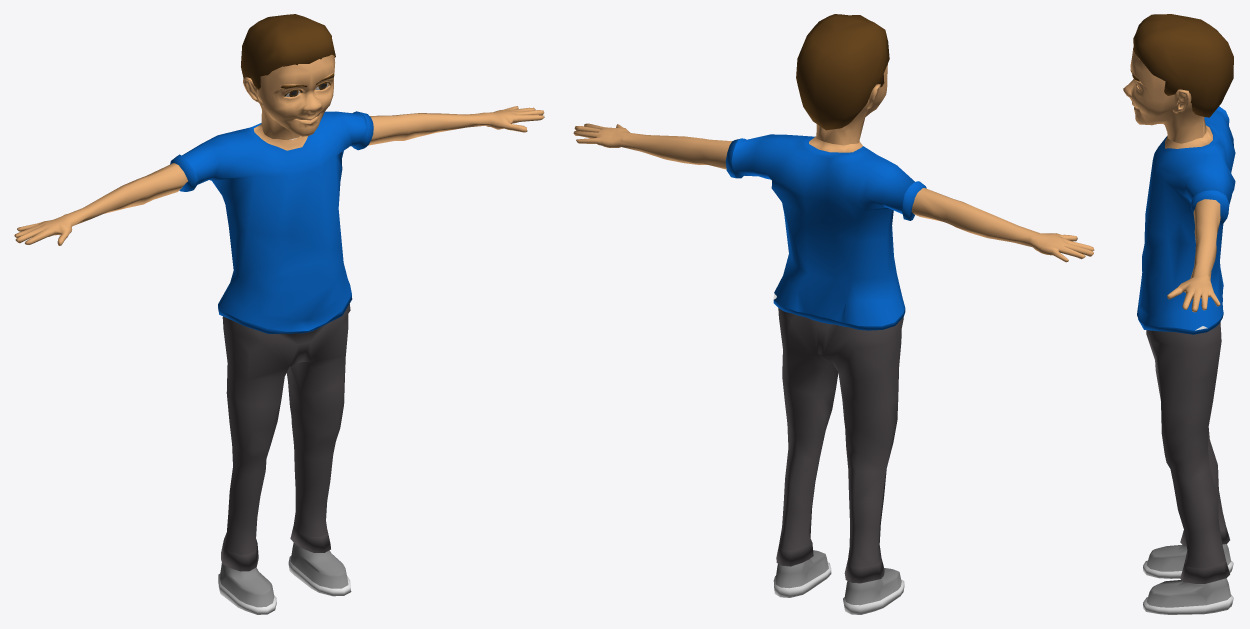
The model's file is Boy_Character.fbx.
The picture shows the model from 3 angles, left to right: view 1: azimuth 30°, elevation 25°; view 2: azimuth 150°, elevation 25°; view 3: azimuth 270°, elevation 25°; orthographic projection.
Parts seen in each view (by area): view 1: FEMALE BASE CHARCATER.006, Sphere.007; view 2: FEMALE BASE CHARCATER.006, Sphere.007; view 3: FEMALE BASE CHARCATER.006, Sphere.007.
Boxes of the visible parts, x1,y1,x2,y2 form: FEMALE BASE CHARCATER.006: (14, 54, 544, 614); Sphere.007: (241, 14, 335, 101); FEMALE BASE CHARCATER.006: (573, 64, 1094, 614); Sphere.007: (796, 14, 889, 130); FEMALE BASE CHARCATER.006: (1123, 47, 1235, 614); Sphere.007: (1133, 14, 1233, 117).
Size of the model in its own units: 207 by 214 by 38.24.
